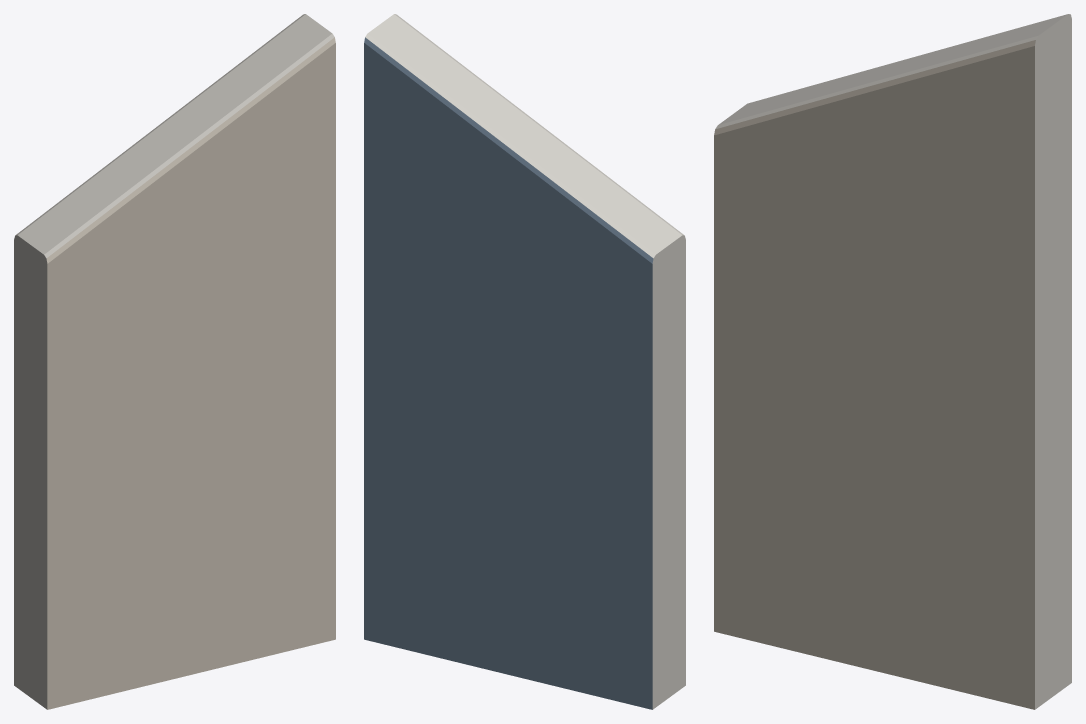
Rendered from SM_Kit_Gable_Low_3_R.glb.
3 renders of one model, left to right at view 1: azimuth 30°, elevation 25°; view 2: azimuth 150°, elevation 25°; view 3: azimuth 330°, elevation 25°, orthographic. The views are drawn at different scales.
Visible parts, largest first — view 1: SM_Kit_Gable_Low_3_R; view 2: SM_Kit_Gable_Low_3_R; view 3: SM_Kit_Gable_Low_3_R.
Part boxes in pixels (x1,y1,x2,y2): SM_Kit_Gable_Low_3_R: (14,14,335,709); SM_Kit_Gable_Low_3_R: (364,14,685,709); SM_Kit_Gable_Low_3_R: (714,14,1071,709).
Bounding box in the file's own units: 1 × 2 × 0.2.
